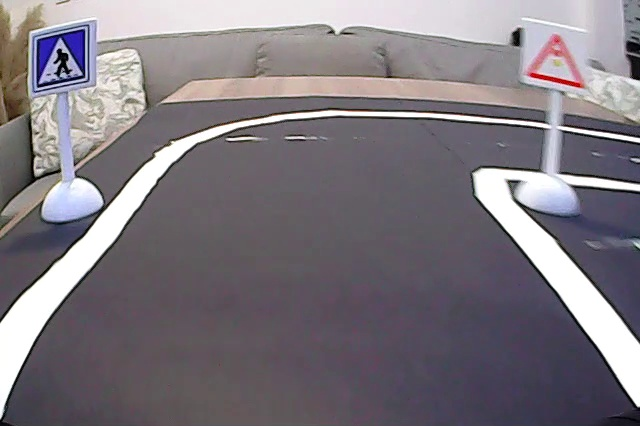pedestrian crossing: (33, 29, 91, 93)
red light: (523, 27, 591, 94)
